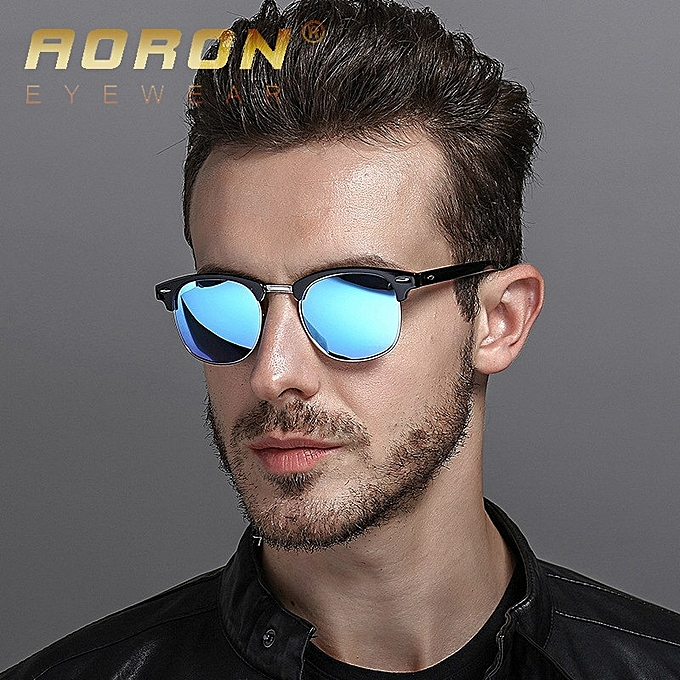sunglasses: (136, 268, 457, 365)
